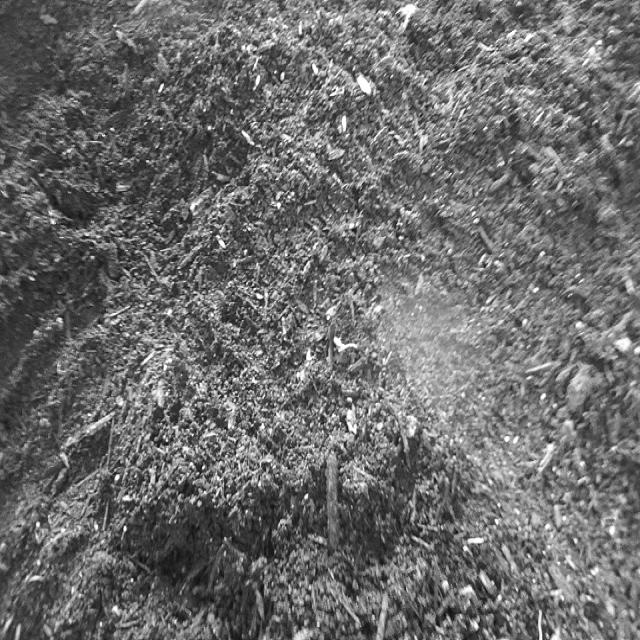Unhealthy: (328, 322, 369, 369)
